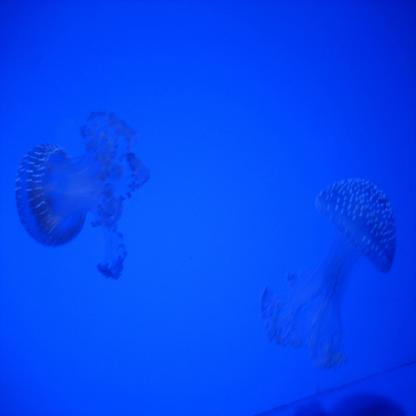LionMane: (262, 176, 398, 375), (15, 113, 151, 287)
